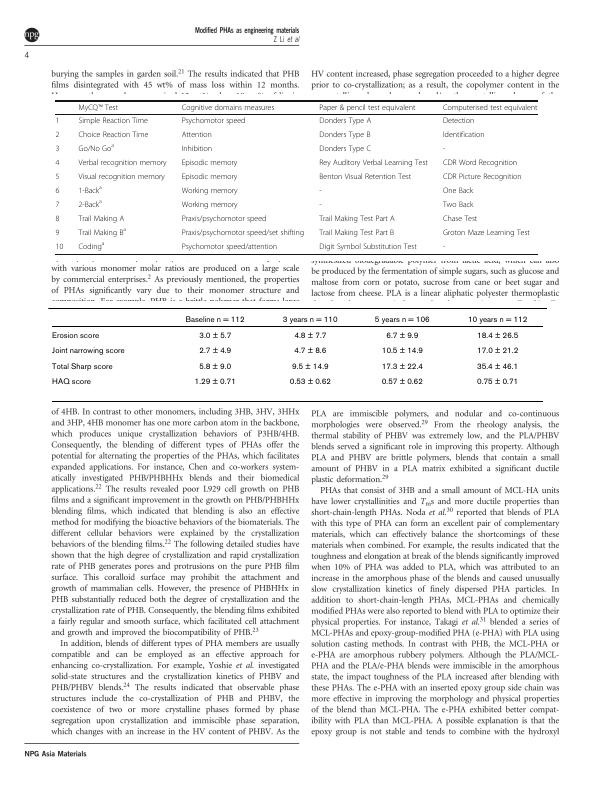borderless: (55, 99, 538, 254), (47, 306, 543, 401)
cell: (181, 228, 305, 238), (318, 158, 429, 168), (318, 242, 418, 252), (181, 242, 278, 252), (318, 172, 412, 182), (77, 158, 167, 168), (77, 172, 166, 182), (442, 228, 531, 238), (318, 103, 416, 112), (442, 103, 538, 112), (181, 214, 267, 224), (181, 103, 275, 112), (442, 172, 523, 182), (318, 214, 396, 224), (318, 228, 395, 238), (442, 158, 518, 168), (50, 347, 125, 357), (77, 116, 149, 126), (77, 130, 149, 140), (181, 116, 246, 126), (50, 362, 113, 372), (466, 315, 528, 325), (184, 315, 245, 325), (77, 226, 127, 238), (181, 186, 239, 196), (181, 200, 239, 210), (181, 158, 238, 168), (181, 172, 238, 182), (281, 315, 338, 325), (373, 315, 430, 325), (318, 116, 372, 126), (318, 144, 372, 154), (318, 130, 371, 140), (50, 331, 99, 341), (77, 214, 125, 224), (77, 142, 115, 154), (475, 331, 519, 341), (475, 347, 519, 357), (475, 362, 519, 372), (475, 378, 519, 388), (442, 130, 485, 140), (380, 347, 423, 357), (380, 362, 423, 372), (193, 378, 236, 388), (288, 378, 331, 388), (380, 378, 423, 388), (50, 378, 91, 388), (290, 362, 329, 372), (77, 103, 119, 112), (442, 214, 478, 224), (198, 331, 232, 341), (293, 331, 327, 341), (385, 331, 419, 341), (198, 347, 232, 357), (293, 347, 327, 357), (198, 362, 232, 372), (77, 240, 105, 252), (442, 116, 475, 126), (181, 130, 213, 140), (181, 144, 213, 154), (442, 186, 474, 196), (442, 200, 474, 210), (77, 184, 103, 196), (77, 198, 103, 210), (55, 242, 64, 252), (54, 116, 60, 126), (54, 130, 60, 140), (54, 144, 60, 154), (55, 158, 60, 168), (55, 172, 60, 182), (55, 186, 60, 196), (318, 186, 323, 196), (55, 200, 60, 210), (318, 200, 323, 210), (55, 214, 60, 224), (55, 228, 60, 238), (442, 144, 446, 154), (442, 242, 446, 252)
